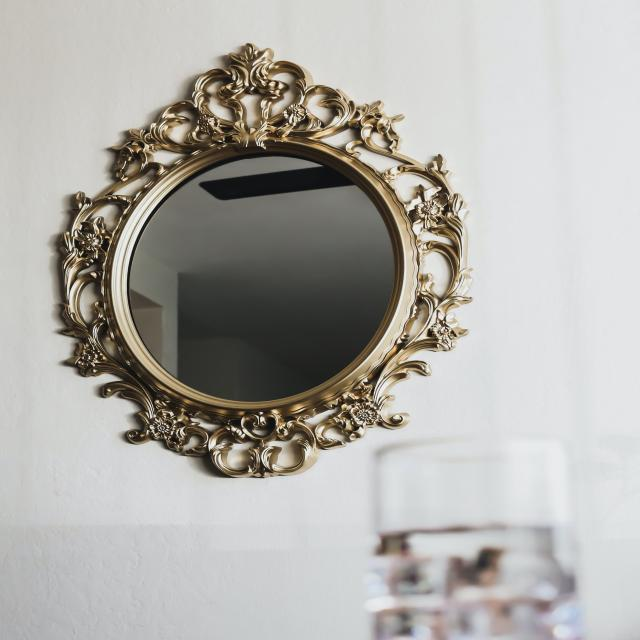Glass: (128, 142, 403, 398)
